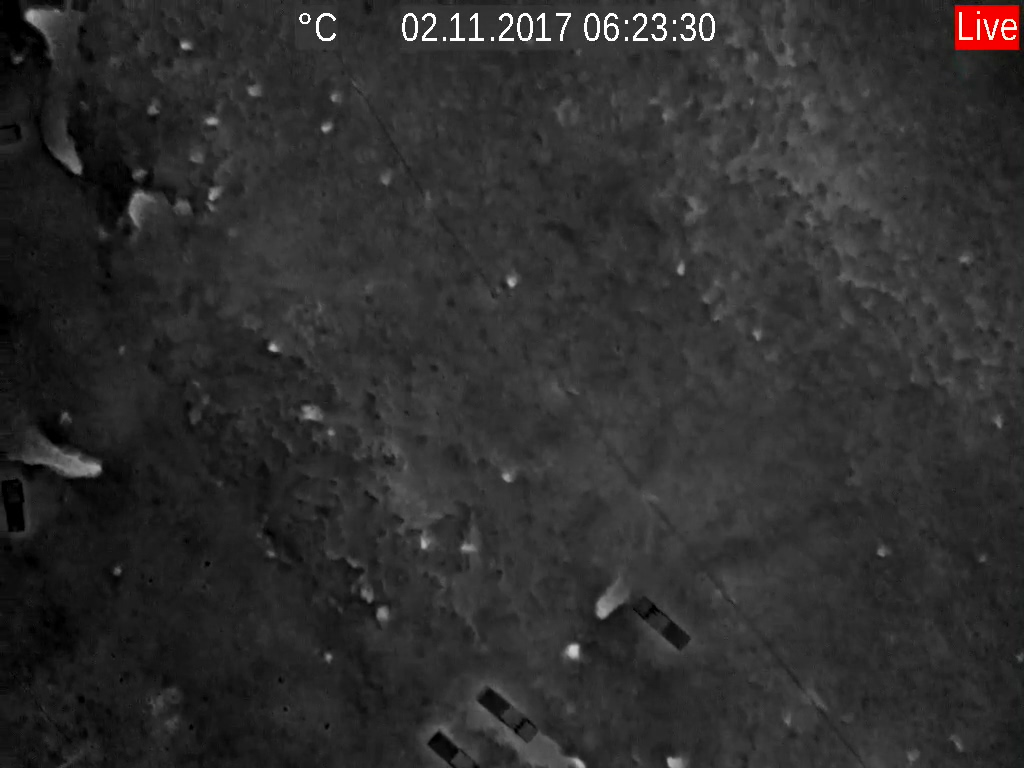warren: (11, 410, 104, 483), (585, 572, 631, 620), (557, 634, 590, 667), (263, 331, 287, 359)
